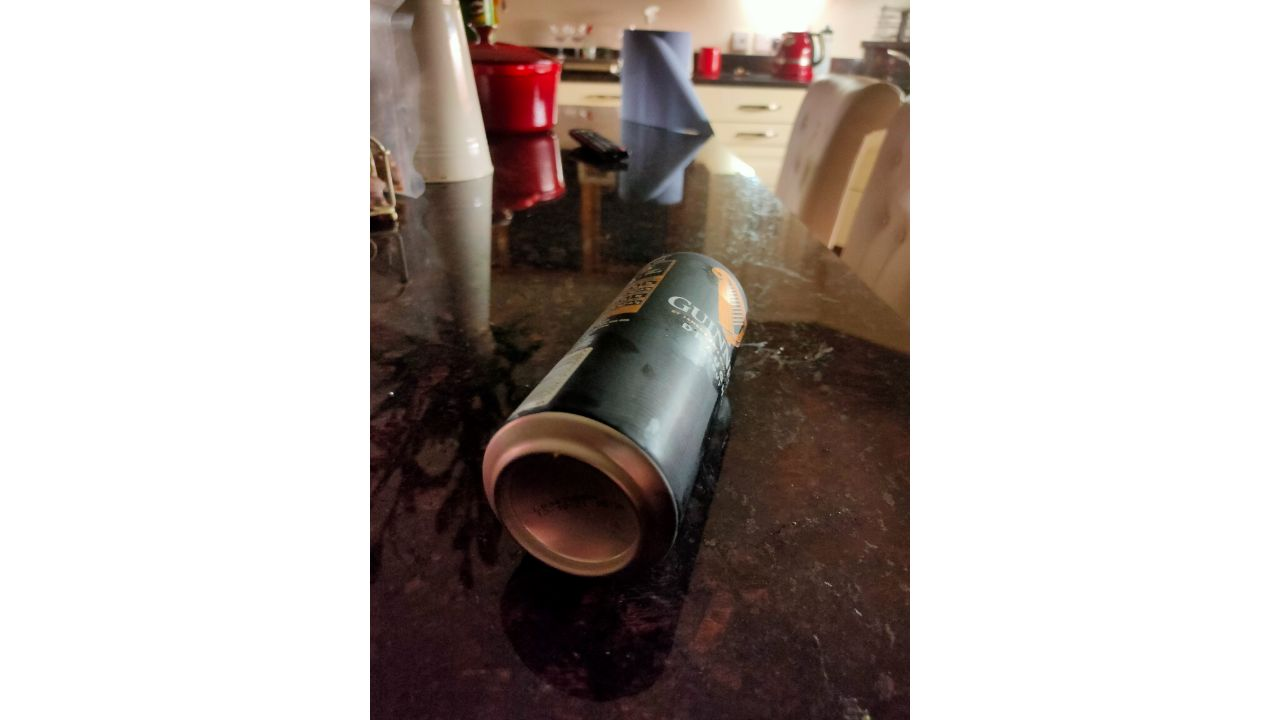Can: (477, 247, 754, 581)
